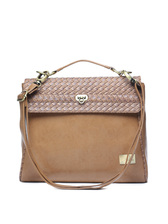bag: (14, 59, 156, 195)
